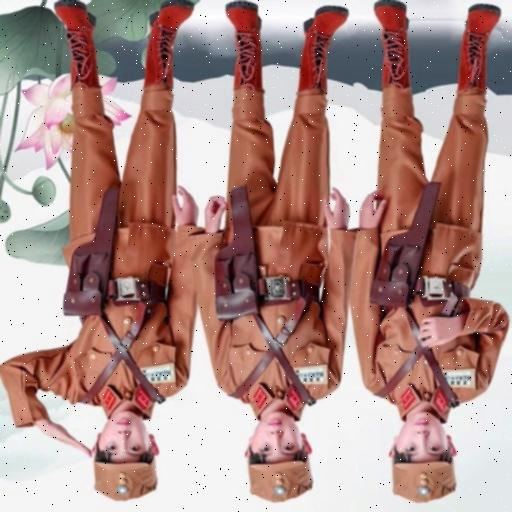north army: (28, 20, 502, 512)
